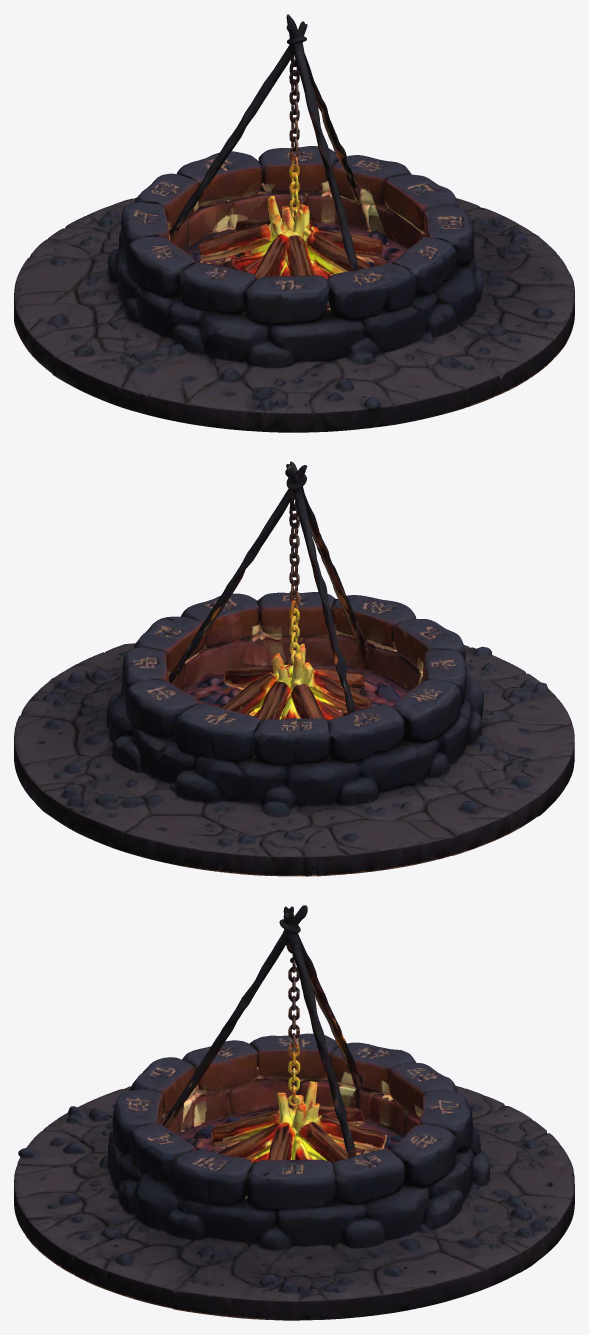
Rendered from fire_circle.glb.
The picture shows the model from 3 angles, top to bottom: view 1: azimuth 30°, elevation 25°; view 2: azimuth 150°, elevation 25°; view 3: azimuth 270°, elevation 25°; orthographic projection.
Size of the model in its own units: 1.9 by 1.1 by 1.89.
1 material, 1 textured.
